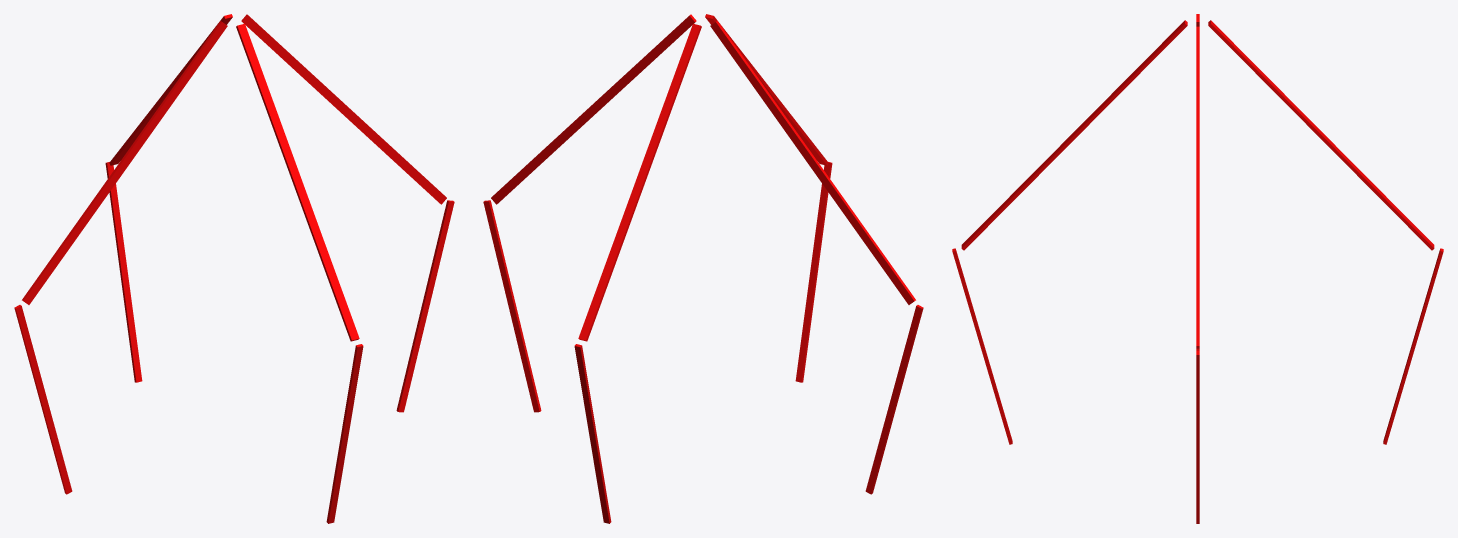
Rendered from BuildingTW_01_F_02.fbx.
3 views of the same model, side by side, from view 1: azimuth 30°, elevation 25°; view 2: azimuth 150°, elevation 25°; view 3: azimuth 270°, elevation 25° (orthographic). The views are drawn at different scales.
Visible parts, largest first — view 1: SupportPillar; view 2: SupportPillar; view 3: SupportPillar.
Boxes of the visible parts, x1,y1,x2,y2 form: SupportPillar: (14, 14, 454, 523); SupportPillar: (483, 14, 923, 523); SupportPillar: (952, 14, 1443, 523).
Size of the model in its own units: 29.54 by 27.98 by 29.4.
